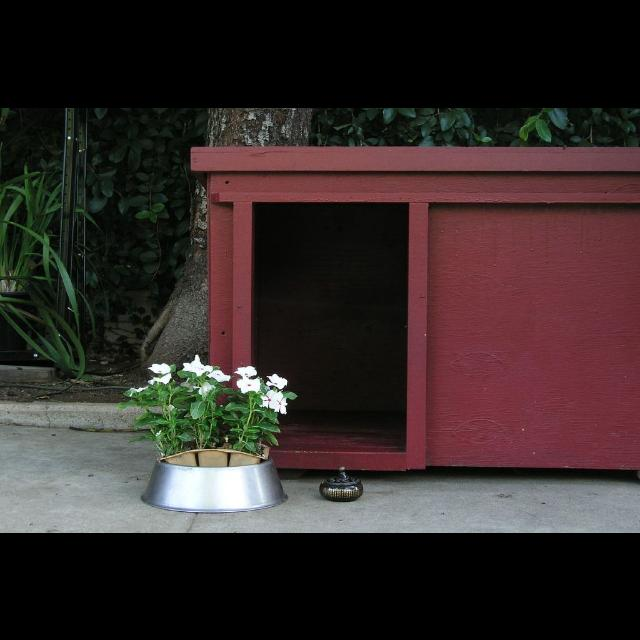Flower: (182, 354, 210, 376), (236, 375, 260, 393), (267, 388, 285, 412), (266, 372, 288, 388), (207, 370, 230, 382), (150, 372, 172, 384), (234, 364, 256, 376), (148, 362, 172, 372), (198, 381, 215, 395), (182, 378, 198, 392), (128, 384, 146, 394)
